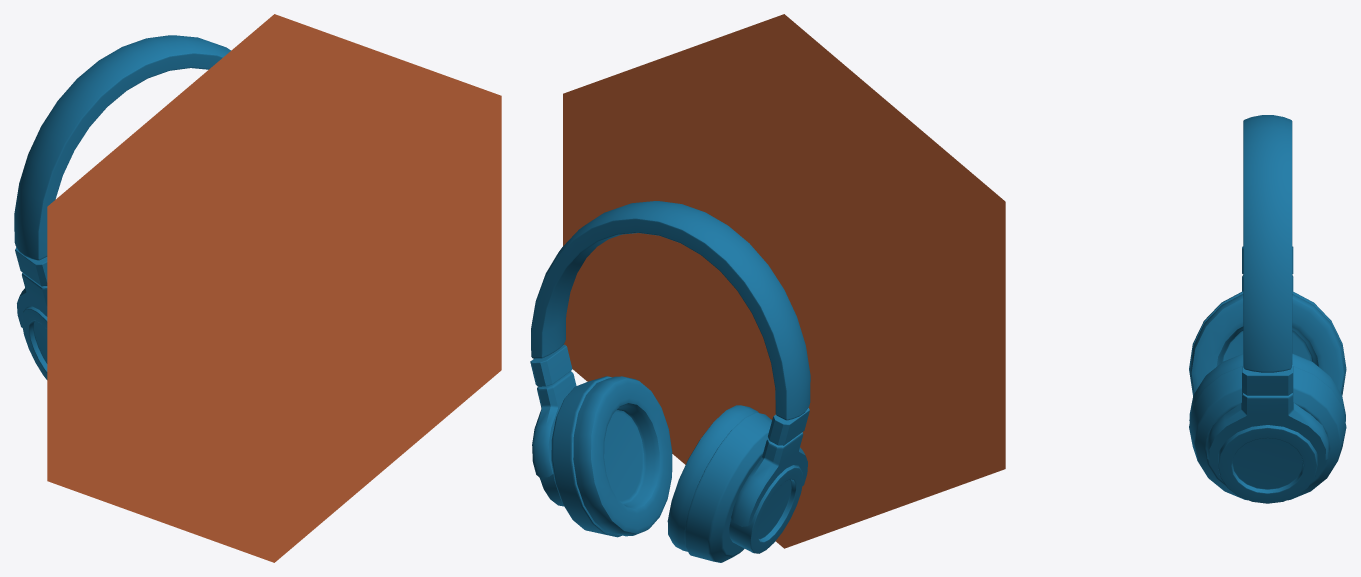
The model's file is headphone_animation-2.fbx.
3 views of the same model, side by side, from view 1: azimuth 30°, elevation 25°; view 2: azimuth 150°, elevation 25°; view 3: azimuth 270°, elevation 25° (orthographic). The views are drawn at different scales.
Visible parts, largest first — view 1: pDisc1, Headphones_02; view 2: pDisc1, Headphones_02; view 3: Headphones_02.
Part boxes in pixels (x1,y1,x2,y2): pDisc1: [47, 14, 501, 562]; Headphones_02: [14, 35, 230, 379]; pDisc1: [563, 14, 1005, 548]; Headphones_02: [530, 201, 810, 562]; Headphones_02: [1189, 115, 1346, 503].
Bounding box in the file's own units: 15.42 × 17.81 × 9.17.
